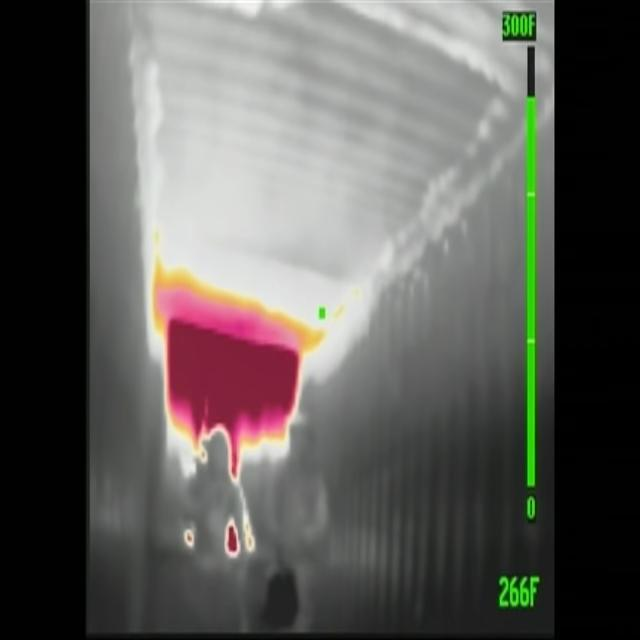fire: (162, 279, 306, 560)
